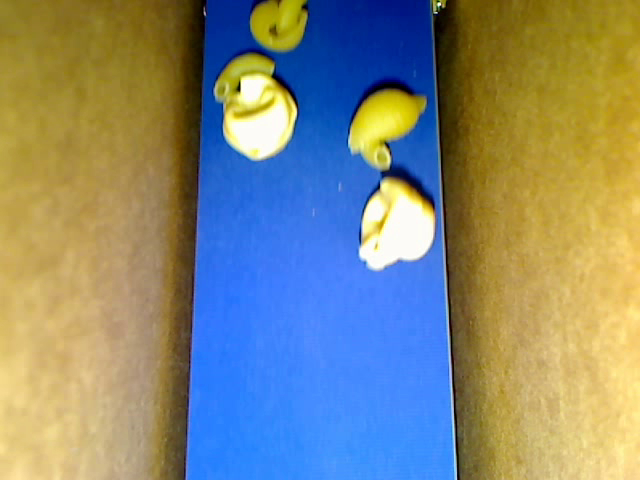elbow: (213, 52, 275, 101), (275, 1, 307, 36), (358, 141, 391, 170)
shell: (347, 89, 426, 155), (249, 1, 308, 53)
tortellini: (358, 175, 436, 270), (221, 70, 299, 161)
